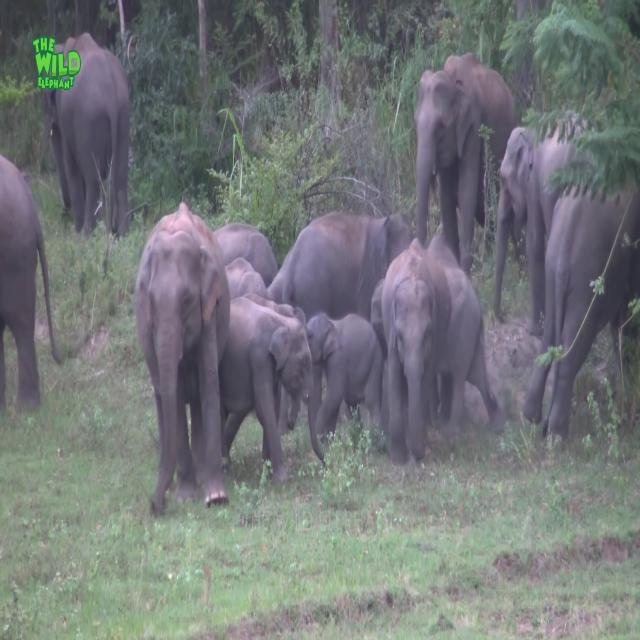Elephant: (135, 200, 231, 516), (379, 235, 499, 463), (492, 110, 596, 338), (414, 51, 517, 278), (43, 31, 131, 240), (0, 153, 61, 413), (306, 310, 384, 446)
